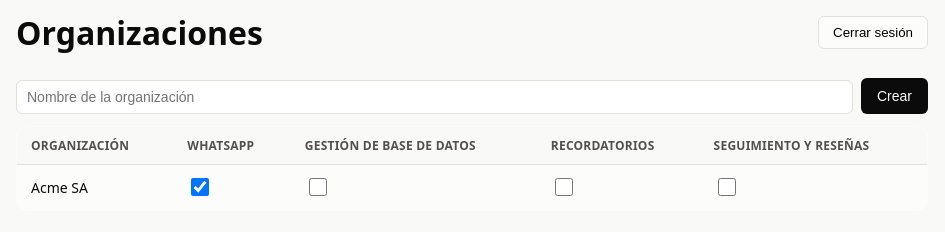
Test: AdminOrganizationsPage › si crear falla, muestra el mensaje de error del backend
The width and height of the screenshot is (945, 232).
Expected: the text "Acme SA" is shown, [16,164,173,210]
Step 1. Type "X" into the field named "Nueva organización" → (434, 97), box [16,80,853,114]
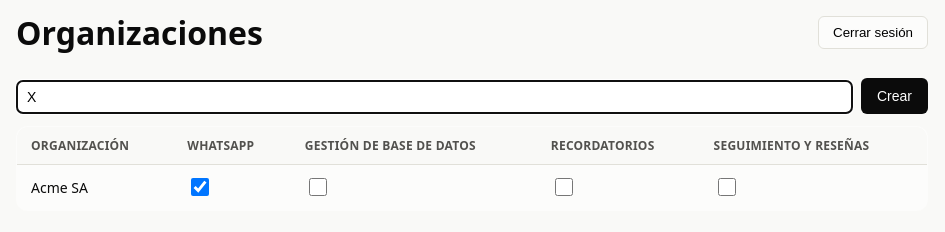
Step 2. Click the button "Crear" → (894, 96), box [861,78,928,114]
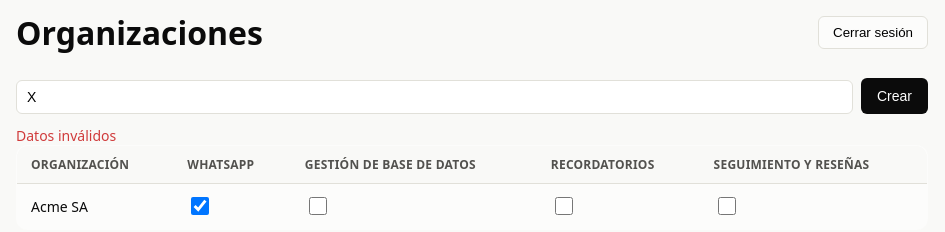
Now the text "Datos inválidos" is shown, box [16,126,116,145]
